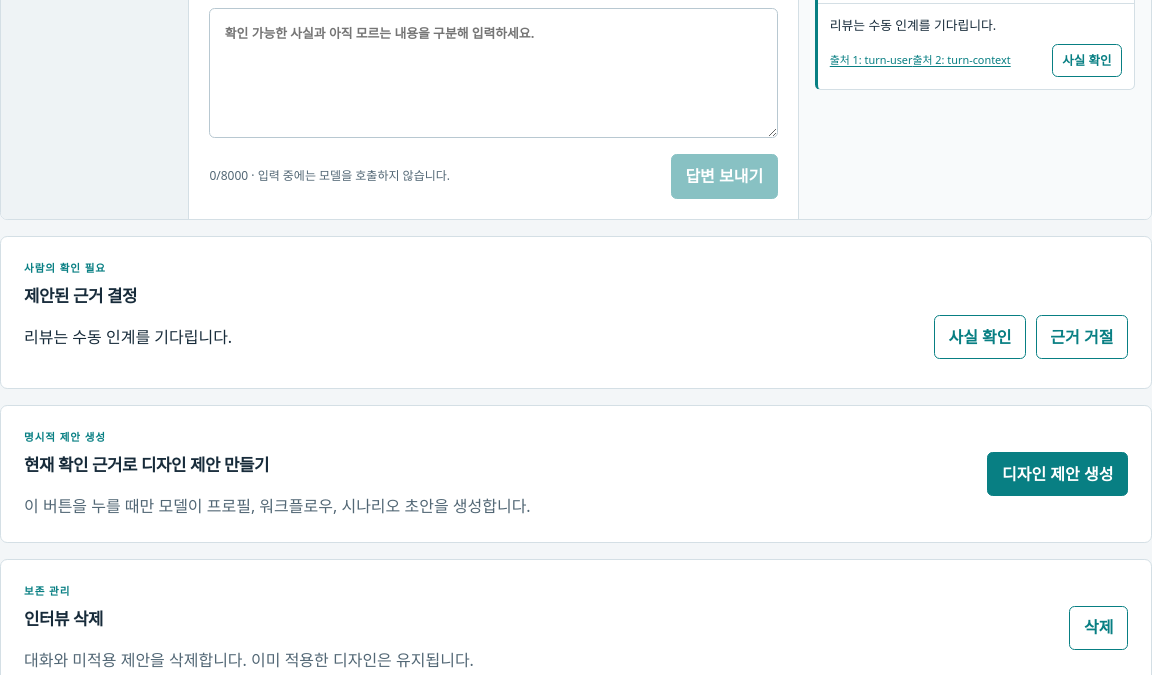
InterviewPageContent lifecycle › advises continuing the interview when a persisted scope is malformed
(page scrolled)
Click the button "디자인 제안 생성" at (1058, 474), box [987,452,1128,496]
(page scrolled)
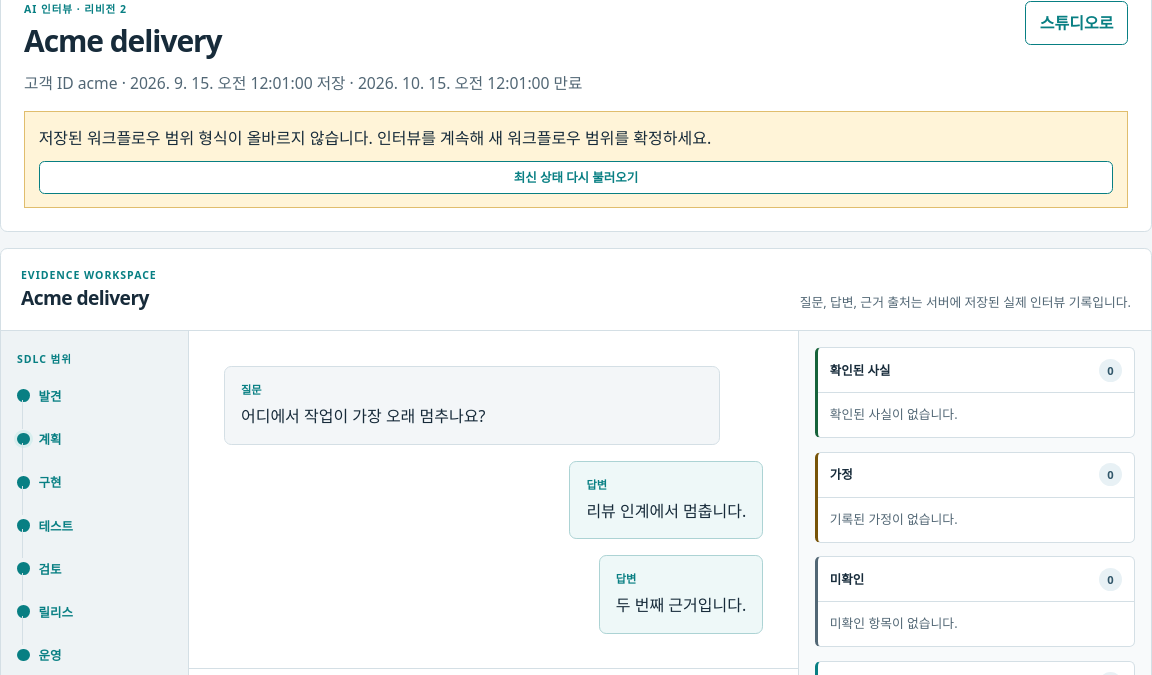
Check: the message does not show "selected scope is not a canonical workflow ID", box [24,111,1128,208]
Check: the message shows "인터뷰를 계속해 새 워크플로우 범위를 확정", box [39,127,711,149]
